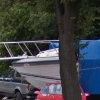Boat: (2, 29, 66, 92)
